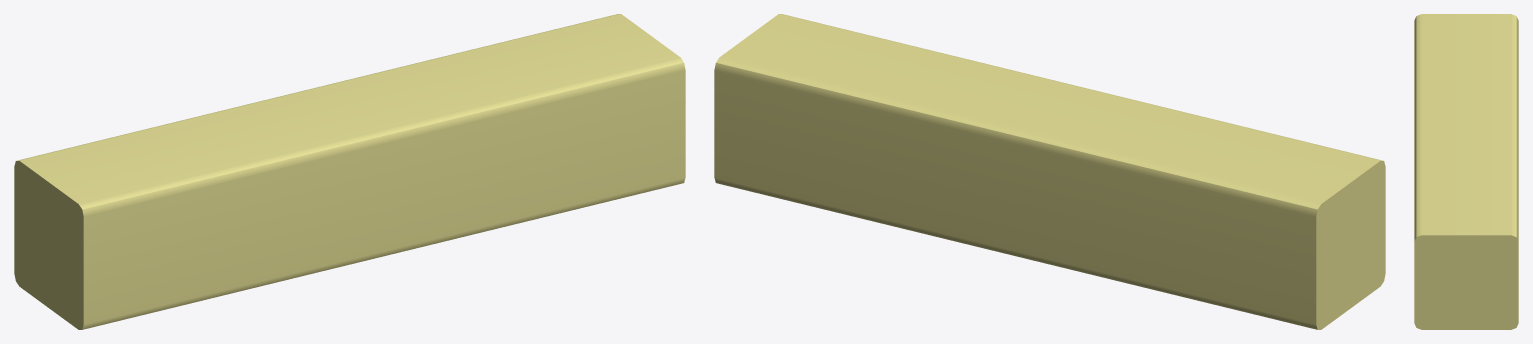
Rendered from butter.fbx.
3 views of the same model, side by side, from view 1: azimuth 30°, elevation 25°; view 2: azimuth 150°, elevation 25°; view 3: azimuth 270°, elevation 25° (orthographic). The views are drawn at different scales.
Visible parts, largest first — view 1: pCube12; view 2: pCube12; view 3: pCube12.
Boxes of the visible parts, x1=… form: pCube12: x1=14, y1=14, x2=685, y2=329; pCube12: x1=714, y1=14, x2=1385, y2=329; pCube12: x1=1414, y1=14, x2=1518, y2=329.
Bounding box in the file's own units: 13.38 × 2.67 × 2.67.
